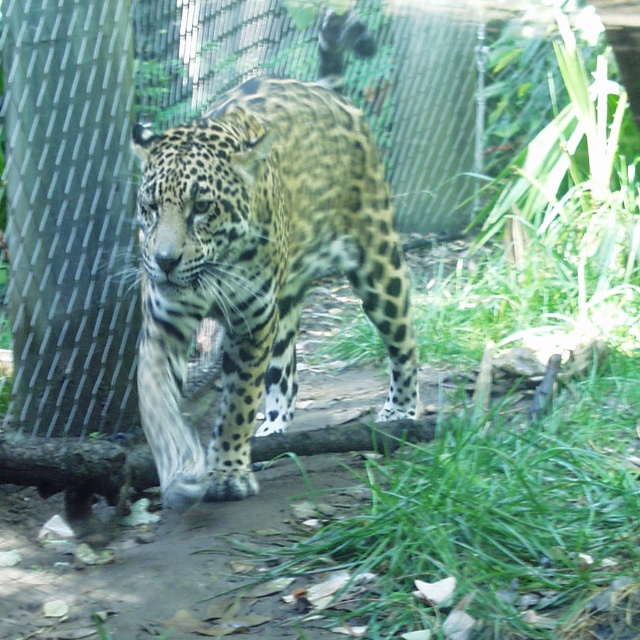Leopard: (95, 73, 421, 515)
